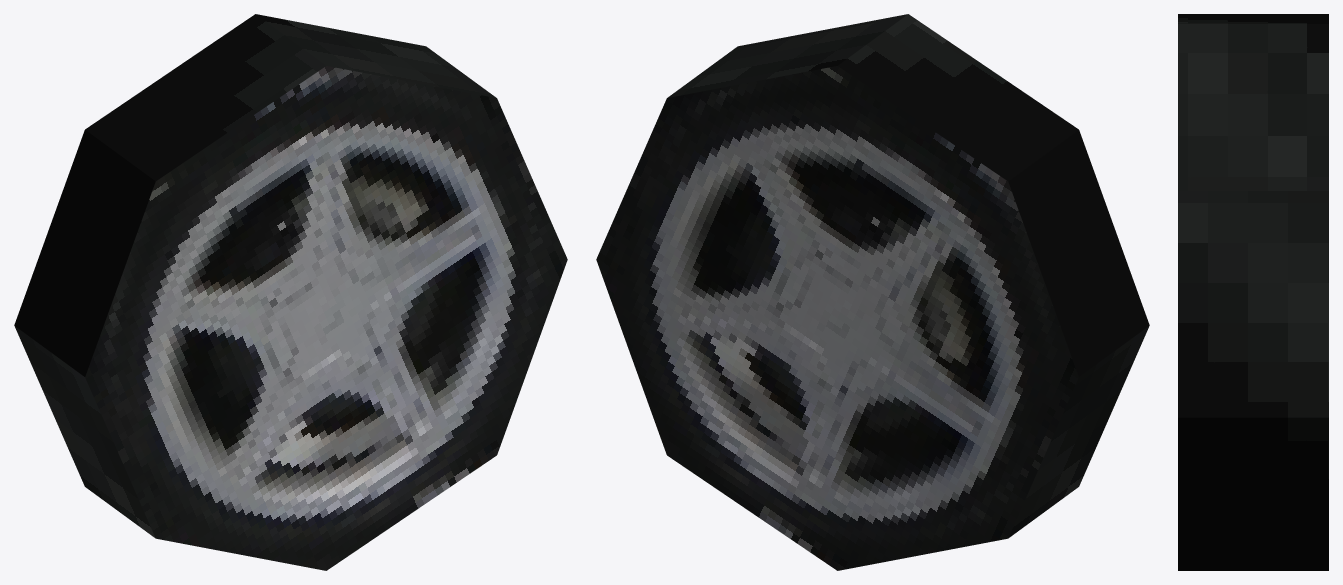
Rendered from Wheel.glb.
3 views of the same model, side by side, from view 1: azimuth 30°, elevation 25°; view 2: azimuth 150°, elevation 25°; view 3: azimuth 270°, elevation 25° (orthographic). The views are drawn at different scales.
Parts seen in each view (by area): view 1: Wheel; view 2: Wheel; view 3: Wheel.
Part boxes in pixels (<box>): Wheel: <box>14,14,567,570</box>; Wheel: <box>596,14,1149,570</box>; Wheel: <box>1178,14,1328,570</box>.
Size of the model in its own units: 0.7691 by 0.7691 by 0.1956.
Materials: 1 (1 with a texture image).
